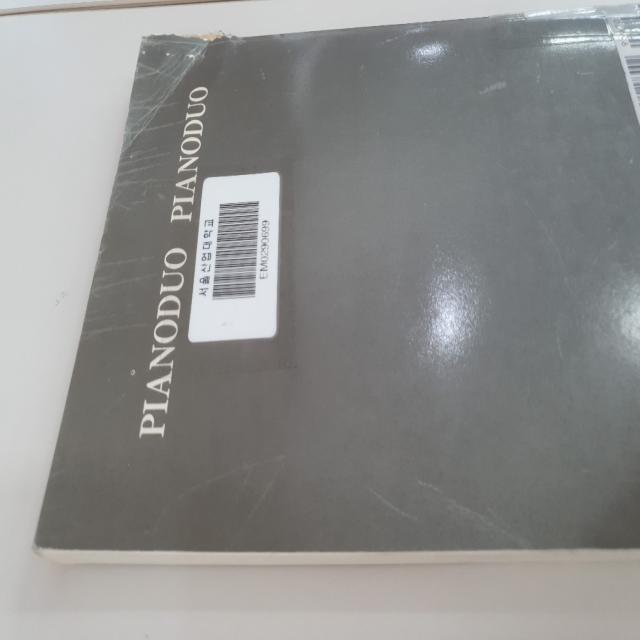Ripped: (119, 22, 245, 50)
Wornout: (26, 494, 49, 560)
